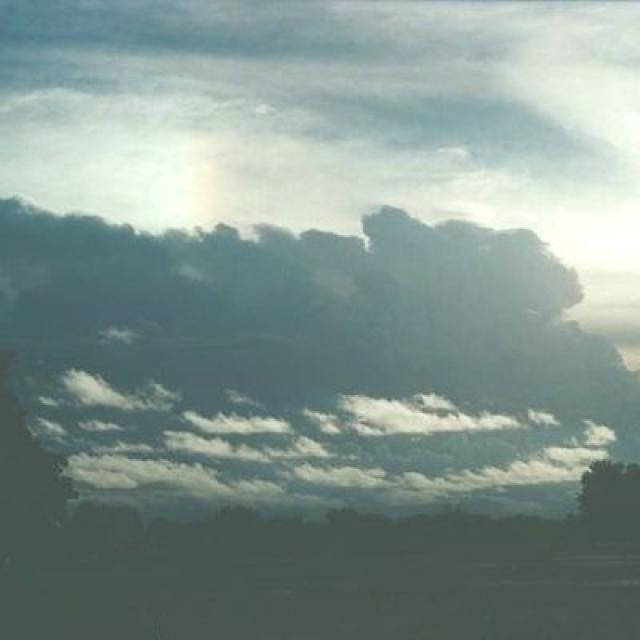St: (1, 84, 640, 531)
